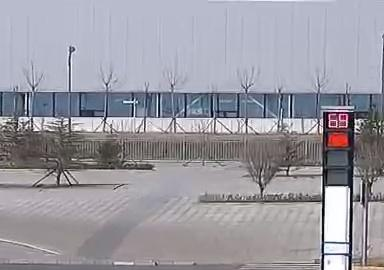red: (328, 132, 350, 149)
redtime: (323, 112, 353, 129)
